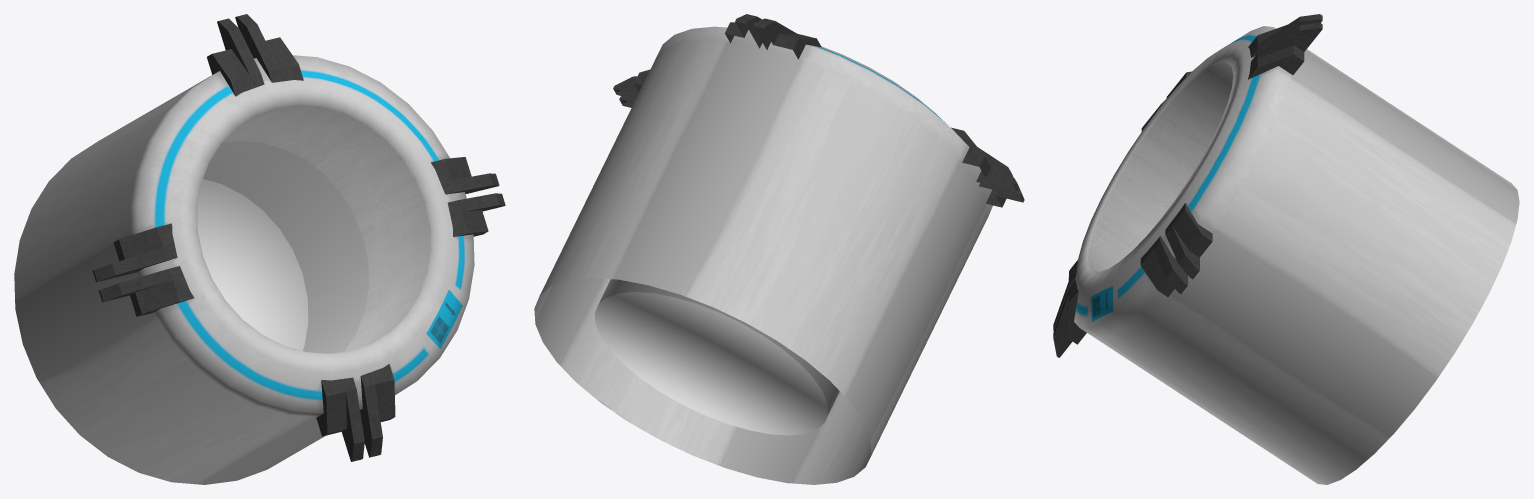
Rendered from FireTrash.fbx.
3 renders of one model, left to right at view 1: azimuth 30°, elevation 25°; view 2: azimuth 150°, elevation 25°; view 3: azimuth 270°, elevation 25°, orthographic. The views are drawn at different scales.
Visible parts, largest first — view 1: Circle.007; view 2: Circle.007; view 3: Circle.007.
Boxes of the visible parts, bbox=[...] form: Circle.007: bbox=[14, 14, 505, 484]; Circle.007: bbox=[534, 14, 1024, 484]; Circle.007: bbox=[1053, 14, 1519, 484].
Size of the model in its own units: 137 by 150 by 143.
Materials: 2 (1 with a texture image).
